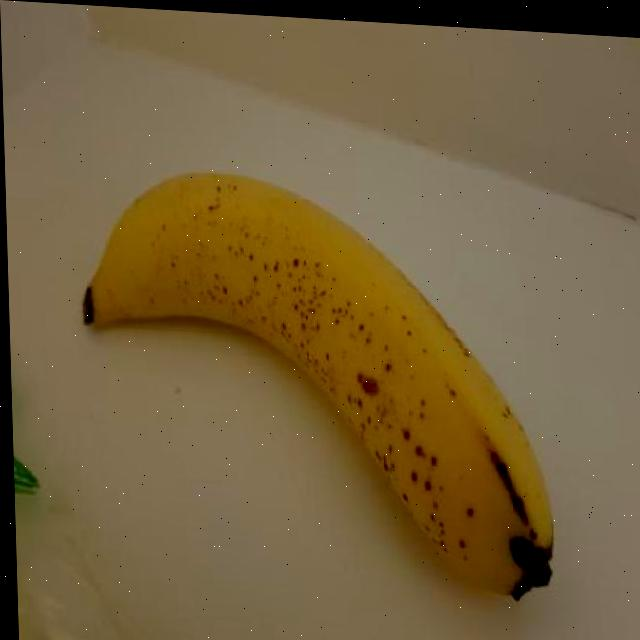banana: (76, 157, 568, 608)
